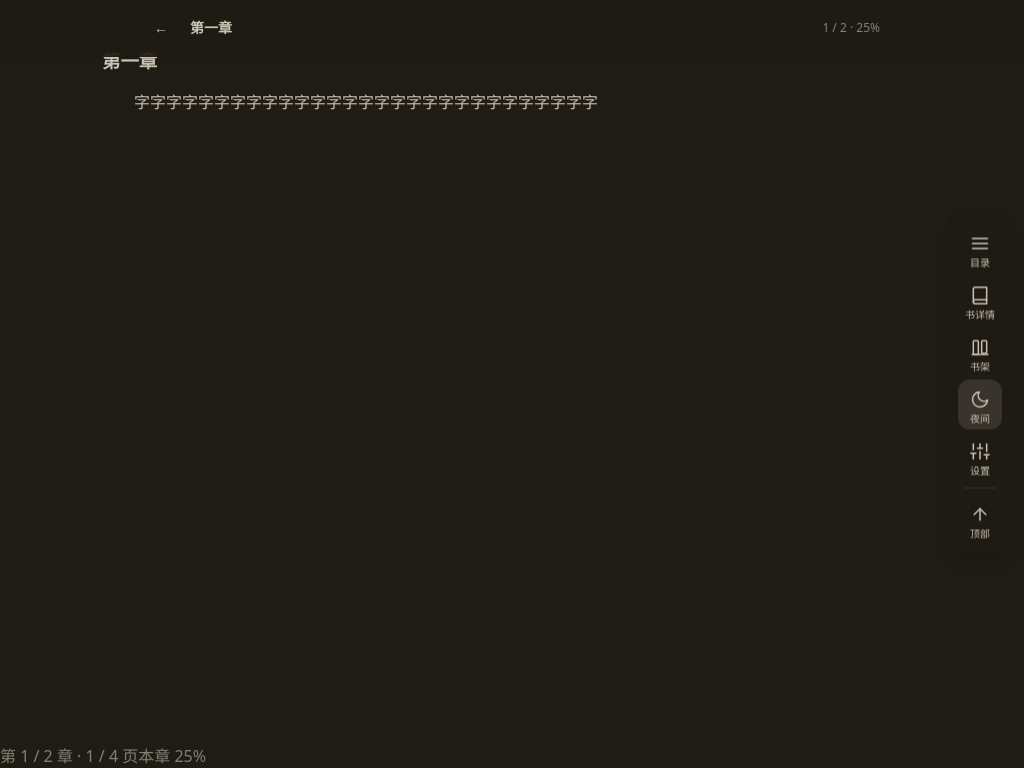
PagedReaderView 翻页流水线(合成行盒) › 拖动翻页:翻页开始触发父组件重渲染,不能丢掉进行中的手势
Press the mouse on the element named "分页正文" at (512, 372), box [72,13,952,731]
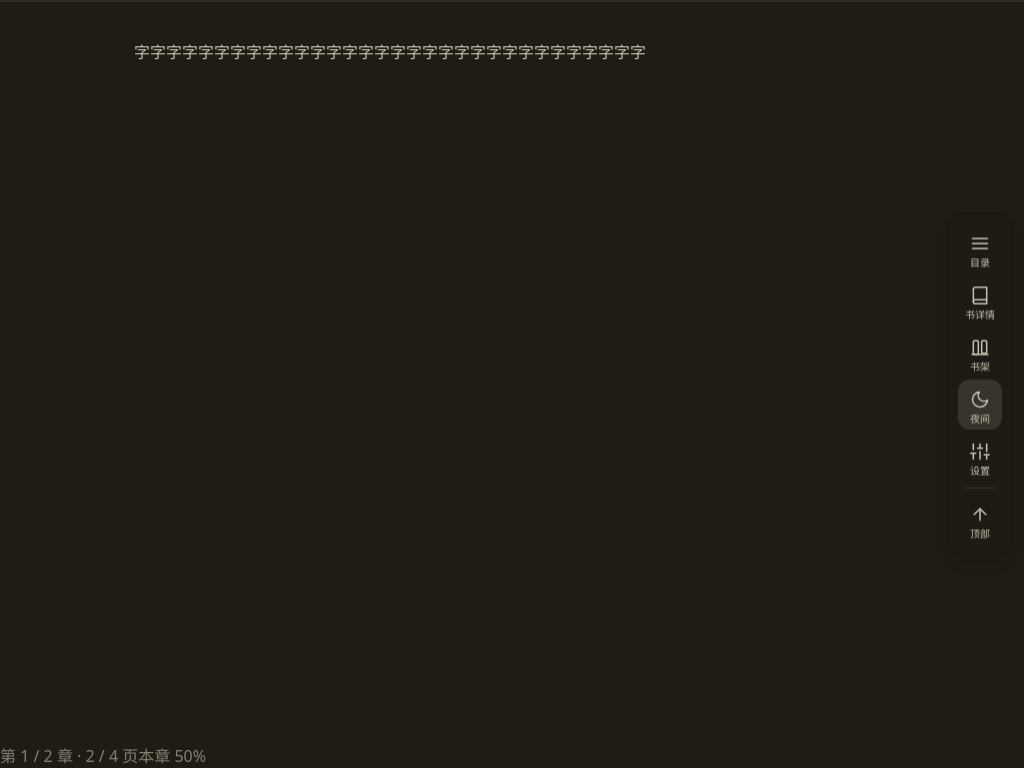
Expected: the text "2 / 4 页" is shown, [86,745,138,767]
